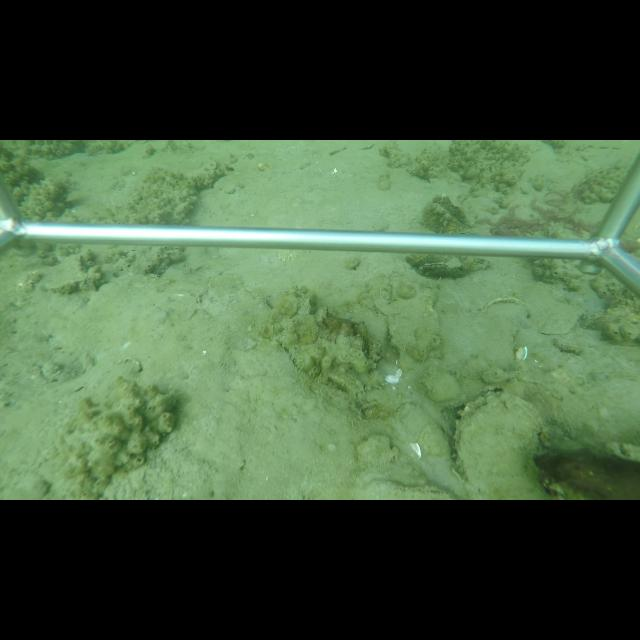Oyster-Closed: (268, 286, 380, 390), (450, 391, 556, 499), (418, 261, 462, 278)
